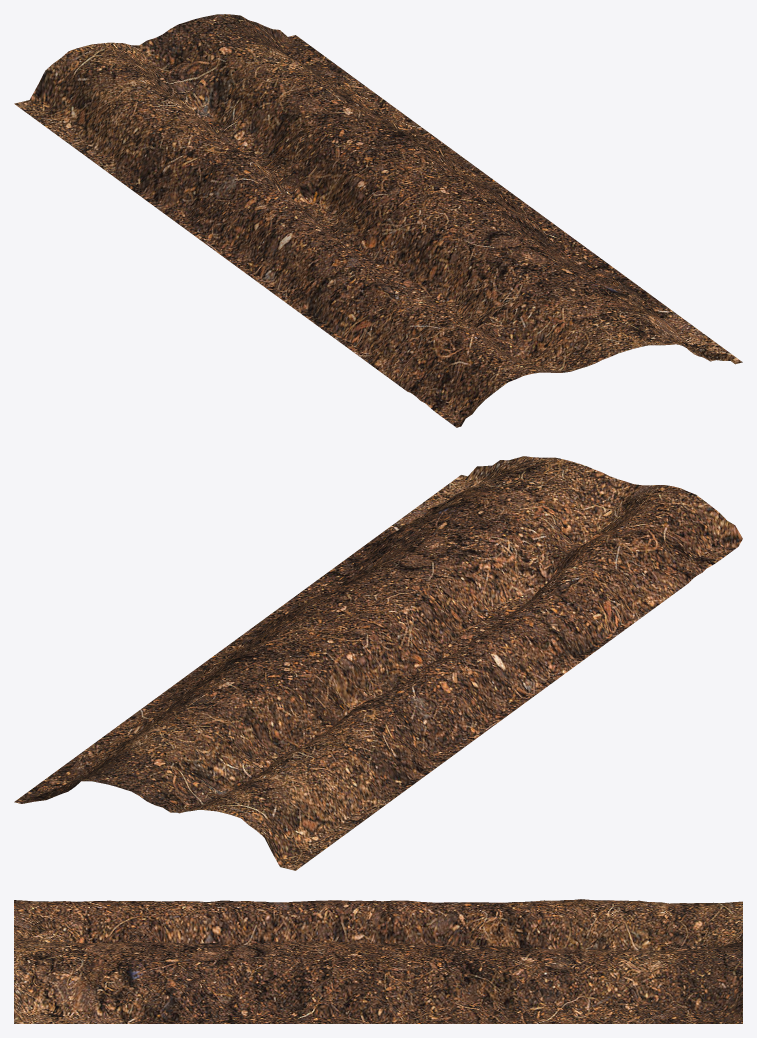
The model's file is Soil_Z3G.obj.
3 views of the same model, one above another, from view 1: azimuth 30°, elevation 25°; view 2: azimuth 150°, elevation 25°; view 3: azimuth 270°, elevation 25° (orthographic). The views are drawn at different scales.
Parts seen in each view (by area): view 1: Soil_original; view 2: Soil_original; view 3: Soil_original.
Part boxes in pixels (bbox=[...]): Soil_original: bbox=[14, 14, 742, 427]; Soil_original: bbox=[14, 456, 742, 870]; Soil_original: bbox=[14, 899, 742, 1023].
Size of the model in its own units: 1511 by 208 by 4156.
1 material, 1 textured.
